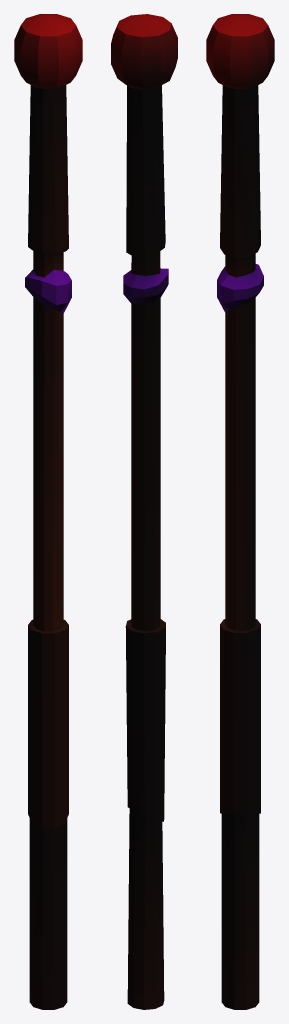
File: WizardRod3.fbx
3 renders of one model, left to right at view 1: azimuth 90°, elevation 25°; view 2: azimuth 210°, elevation 25°; view 3: azimuth 270°, elevation 25°, orthographic.
Visible parts, largest first — view 1: Circle; view 2: Circle; view 3: Circle.
Part boxes in pixels (x1=…): Circle: x1=14, y1=14, x2=82, y2=1009; Circle: x1=111, y1=14, x2=177, y2=1009; Circle: x1=206, y1=14, x2=274, y2=1009.
Bounding box in the file's own units: 17.83 × 298 × 18.75.
